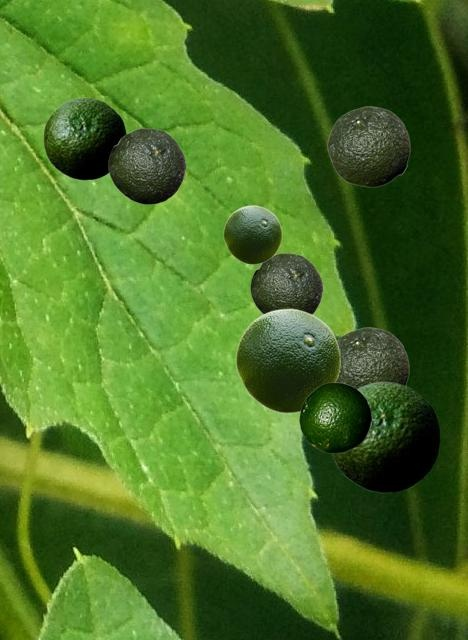calamansi: (331, 381, 439, 492), (235, 308, 340, 412), (43, 97, 125, 179), (327, 106, 409, 186), (108, 128, 185, 203), (299, 382, 371, 452), (250, 253, 322, 313), (337, 327, 408, 387), (223, 205, 281, 263)
